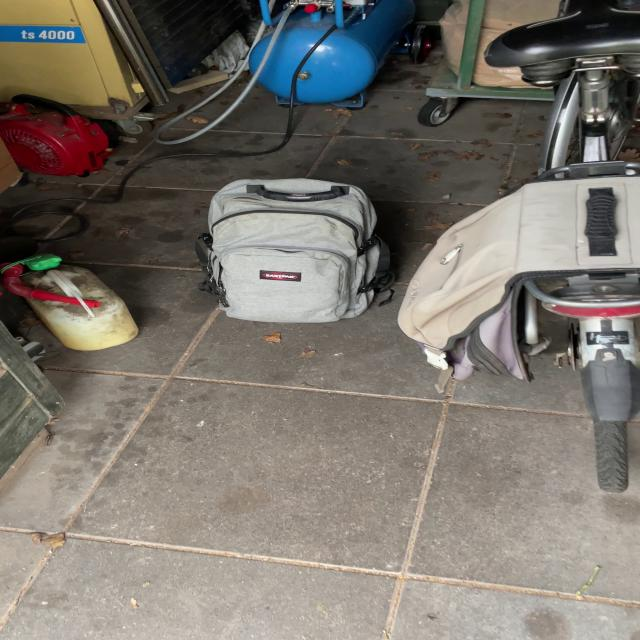backpack: (186, 172, 405, 328)
